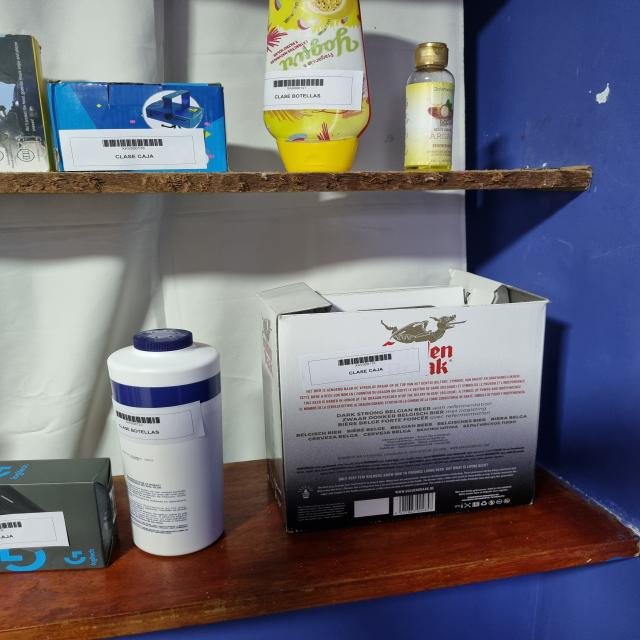botella: (107, 329, 224, 556), (264, 0, 370, 172), (404, 42, 455, 171)
caja: (259, 270, 547, 532), (48, 82, 228, 172), (0, 458, 118, 571), (0, 35, 50, 172)
